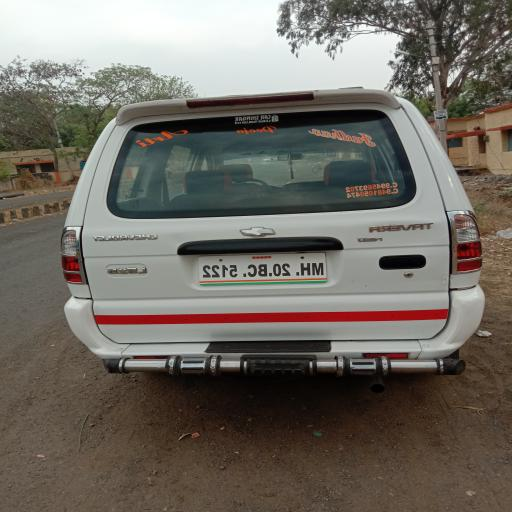License: (191, 251, 328, 289)
